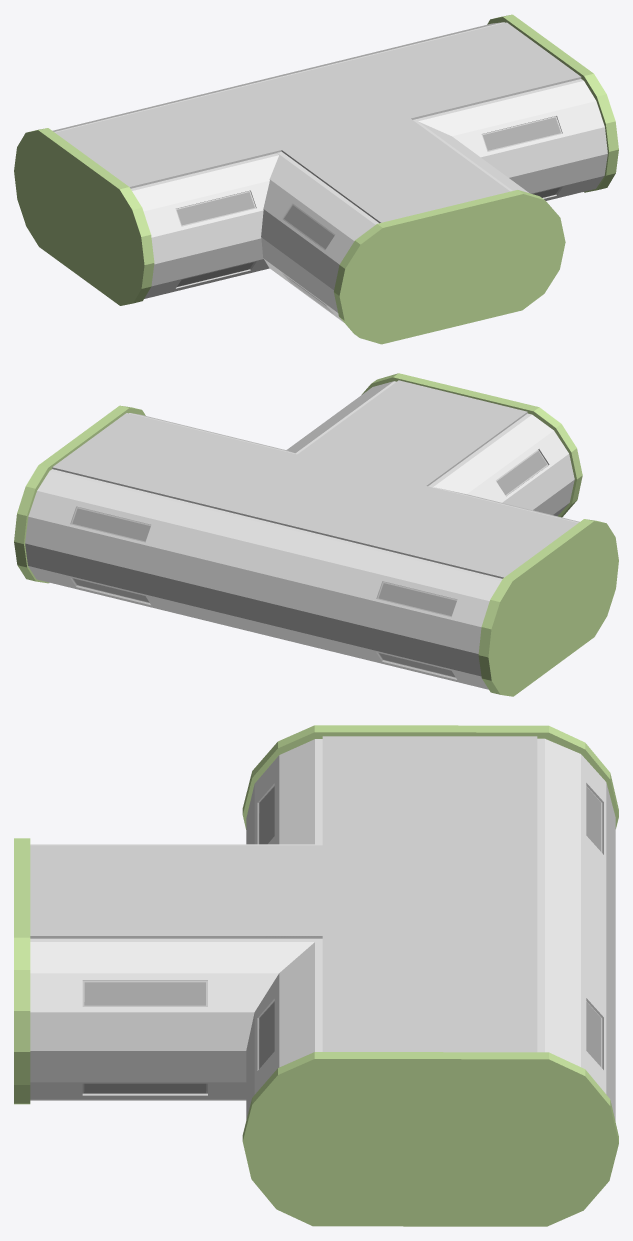
3 renders of one model, top to bottom at view 1: azimuth 30°, elevation 25°; view 2: azimuth 150°, elevation 25°; view 3: azimuth 270°, elevation 25°, orthographic. The views are drawn at different scales.
Parts seen in each view (by area): view 1: Cylinder_12; view 2: Cylinder_12; view 3: Cylinder_12.
Part boxes in pixels (<box>): Cylinder_12: <box>14,14,618,344</box>; Cylinder_12: <box>14,373,618,696</box>; Cylinder_12: <box>14,725,618,1226</box>.
Size of the model in its own units: 1261 by 298 by 966.
